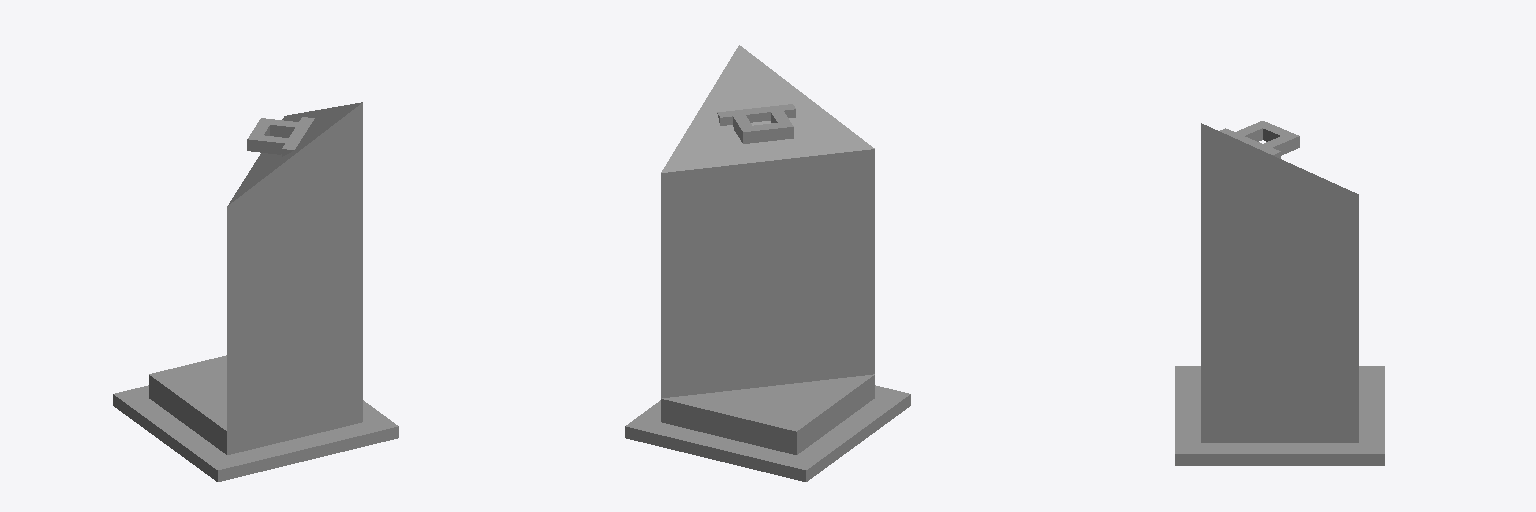
The model's file is marker_switch.obj.
3 views of the same model, side by side, from view 1: azimuth 30°, elevation 25°; view 2: azimuth 150°, elevation 25°; view 3: azimuth 270°, elevation 25° (orthographic).
Visible parts, largest first — view 1: podium.003_Cube.011, podium.000_Cube.014, Cube.003_Cube.012, base.001_Cube.013, Cube.002_Cube.005; view 2: podium.000_Cube.014, podium.002_Cube.016, podium.003_Cube.011, base.001_Cube.013, Cube.003_Cube.012, podium.001_Cube.000, Cube.002_Cube.005, Cube.000_Cube.015; view 3: podium.003_Cube.011, podium.000_Cube.014, Cube.003_Cube.012, base.001_Cube.013, Cube.002_Cube.005.
Part boxes in pixels (bbox=[...]): podium.003_Cube.011: bbox=[227, 245, 362, 431]; podium.000_Cube.014: bbox=[227, 102, 362, 277]; Cube.003_Cube.012: bbox=[113, 385, 398, 481]; base.001_Cube.013: bbox=[149, 355, 362, 454]; Cube.002_Cube.005: bbox=[247, 118, 310, 154]; podium.000_Cube.014: bbox=[661, 45, 874, 243]; podium.002_Cube.016: bbox=[697, 224, 838, 360]; podium.003_Cube.011: bbox=[661, 220, 874, 398]; base.001_Cube.013: bbox=[661, 374, 874, 454]; Cube.003_Cube.012: bbox=[625, 385, 910, 481]; podium.001_Cube.000: bbox=[697, 189, 838, 239]; Cube.002_Cube.005: bbox=[730, 105, 793, 143]; Cube.000_Cube.015: bbox=[717, 104, 795, 125]; podium.003_Cube.011: bbox=[1201, 265, 1358, 419]; podium.000_Cube.014: bbox=[1201, 123, 1358, 264]; Cube.003_Cube.012: bbox=[1175, 366, 1384, 465]; base.001_Cube.013: bbox=[1201, 420, 1358, 442]; Cube.002_Cube.005: bbox=[1229, 121, 1299, 155].
Size of the model in its own units: 1 by 1.75 by 1.